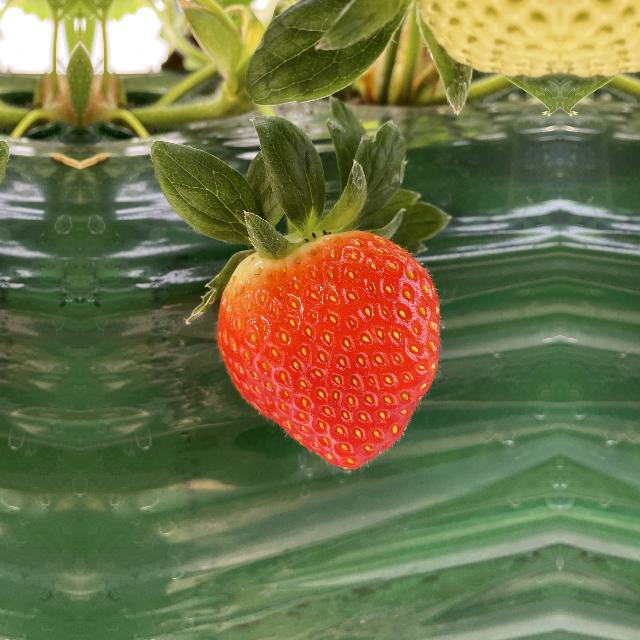Health_100: (198, 224, 456, 476)
